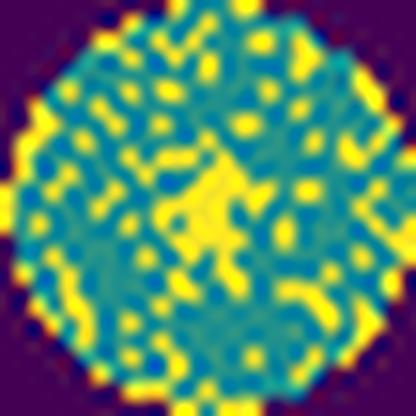Center: (149, 142, 278, 308)
